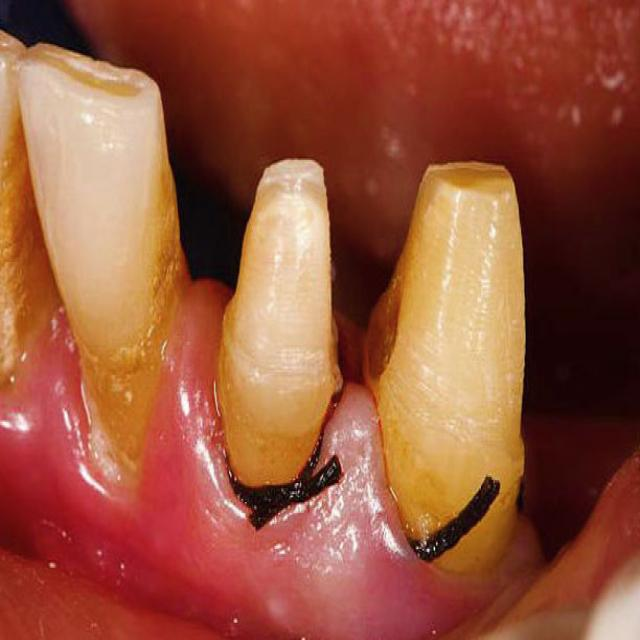caries: (353, 269, 402, 393)
